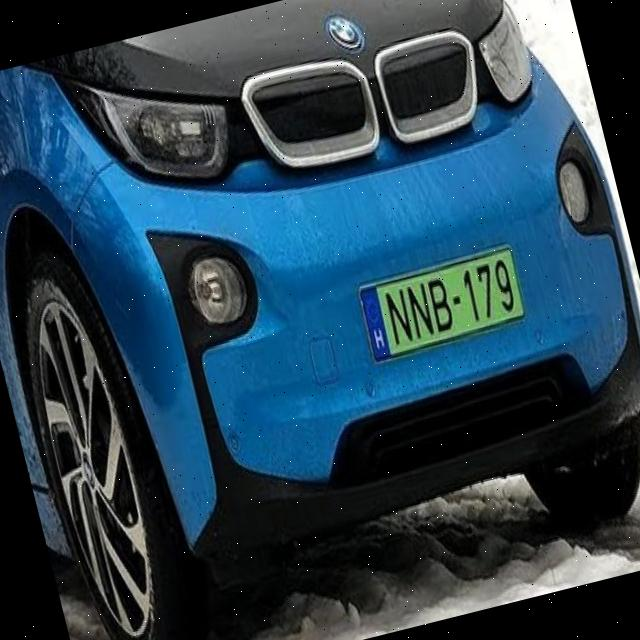licence: (349, 240, 532, 369)
